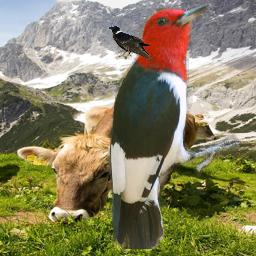Crow: (108, 25, 152, 60)
Woodpecker: (108, 3, 241, 249)
